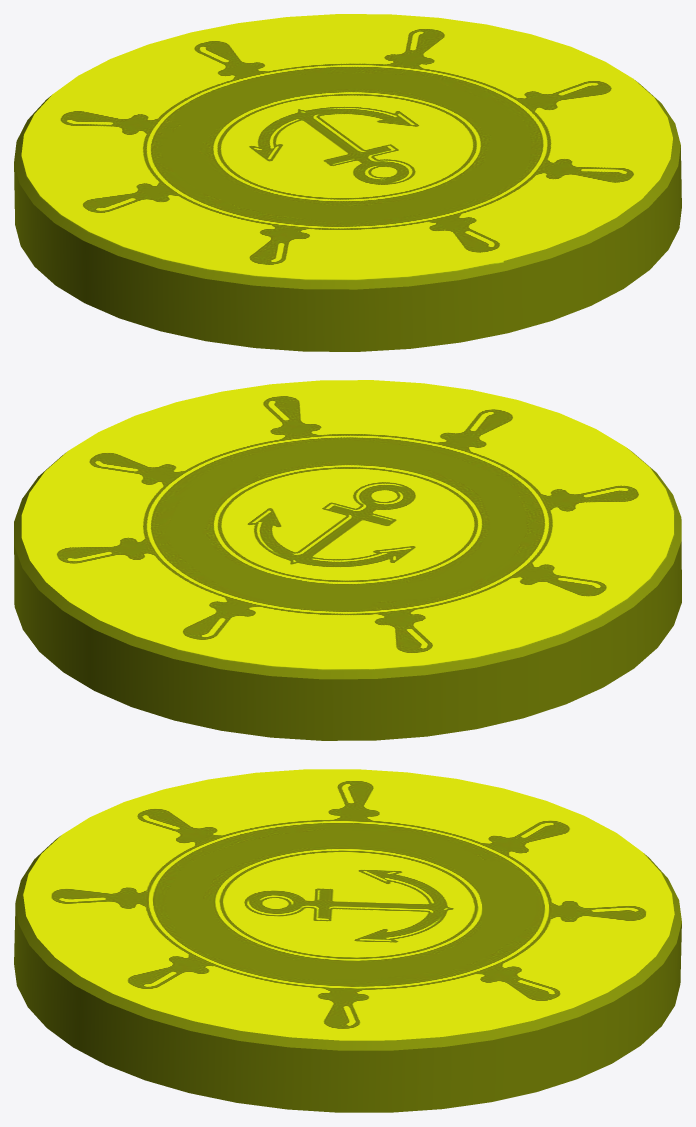
The model's file is gold.glb.
The picture shows the model from 3 angles, top to bottom: view 1: azimuth 30°, elevation 25°; view 2: azimuth 150°, elevation 25°; view 3: azimuth 270°, elevation 25°; orthographic projection.
Parts seen in each view (by area): view 1: pCylinder3; view 2: pCylinder3; view 3: pCylinder3.
Boxes of the visible parts, bbox=[...] form: pCylinder3: bbox=[14, 14, 681, 351]; pCylinder3: bbox=[14, 380, 681, 740]; pCylinder3: bbox=[14, 769, 681, 1112].
Bounding box in the file's own units: 2.5 × 0.3417 × 2.5.
Materials: 1 (1 with a texture image).
